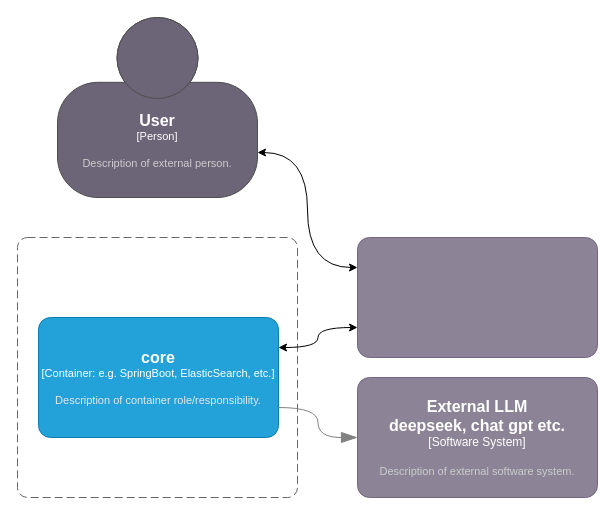
This 615x515 diagram has some shape labels left out. Here are the shapes that lost their labels. From the top down, the box of each, then its label:
(356, 236, 598, 358): Telegram [Software System] The Gist AI bot
(16, 236, 298, 498): [The Gist AI]
